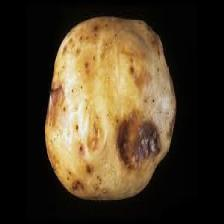Damaged potato: (45, 4, 179, 204)
